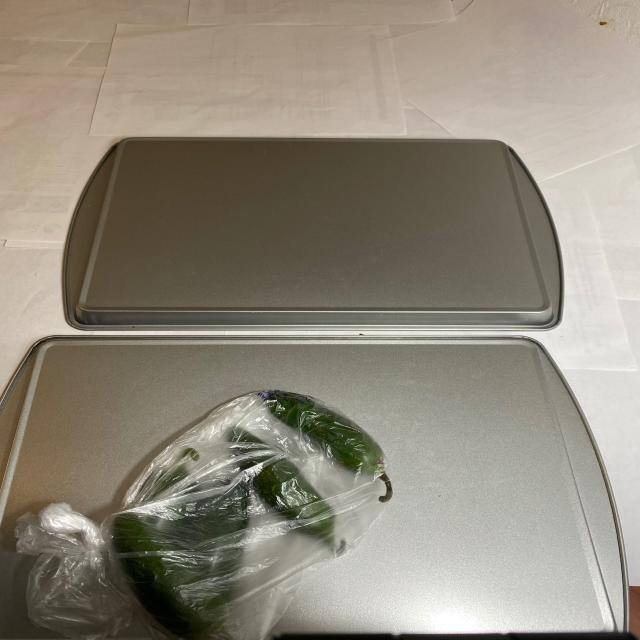chilli: (22, 390, 393, 634)
